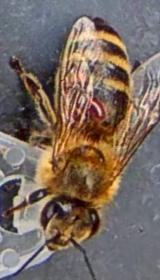varroa_mite: (78, 88, 110, 124)
